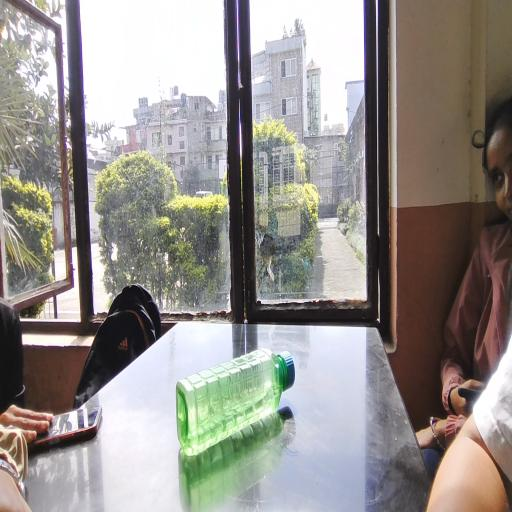Bottle: (162, 358, 307, 438)
